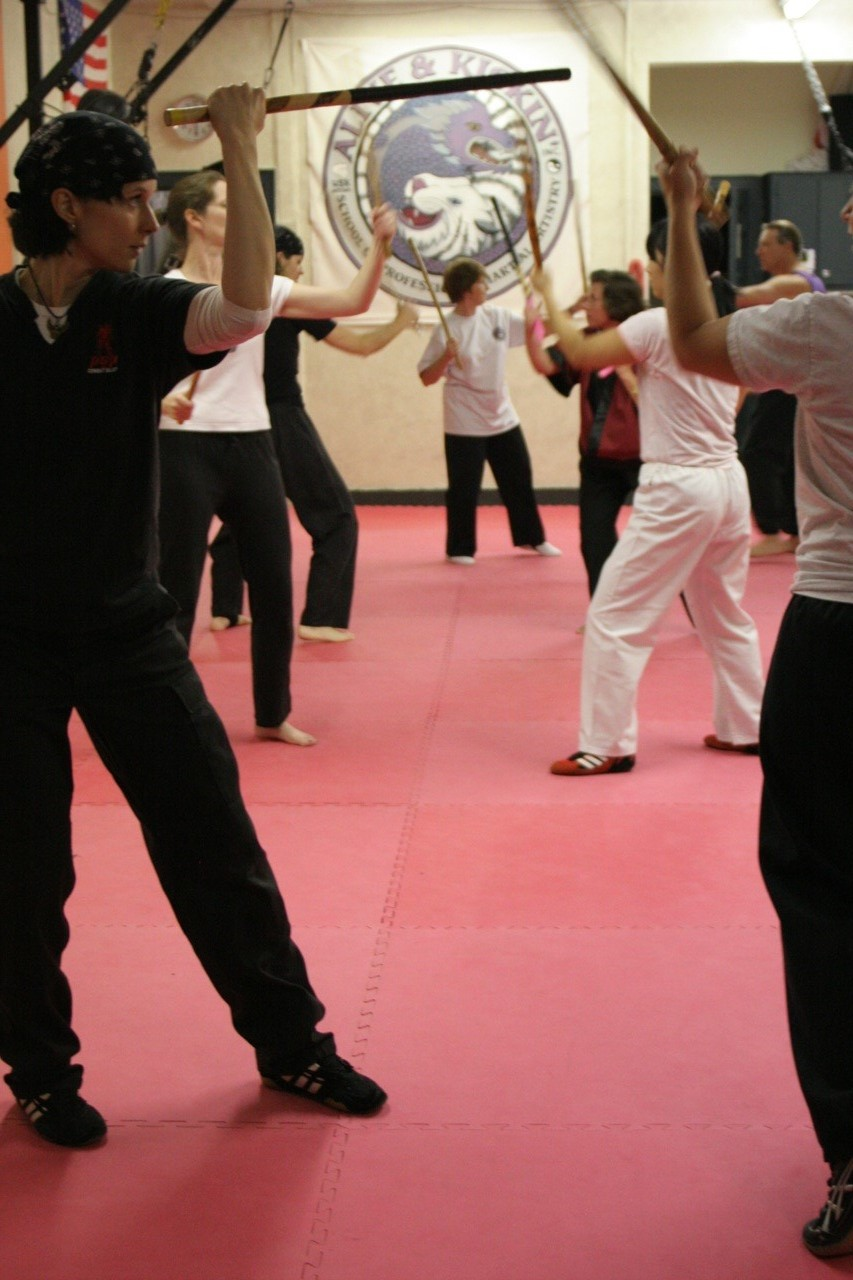baston_e: (173, 64, 561, 130), (554, 11, 687, 160), (409, 243, 465, 364), (491, 203, 533, 292), (516, 150, 544, 267)
baston_v: (156, 103, 183, 130), (554, 59, 580, 85), (716, 173, 735, 192), (487, 193, 499, 206), (405, 235, 417, 245), (457, 362, 469, 371)
